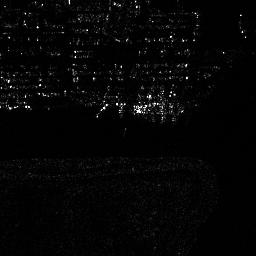ship: (118, 104, 189, 118)
